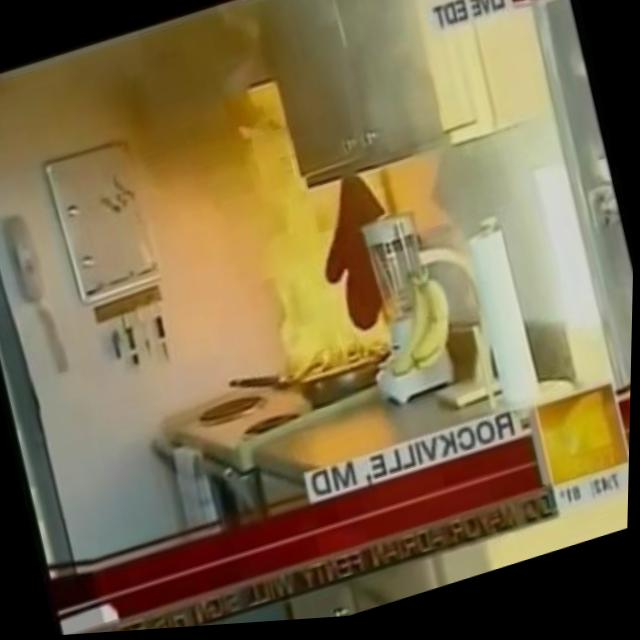fire: (243, 173, 381, 392)
